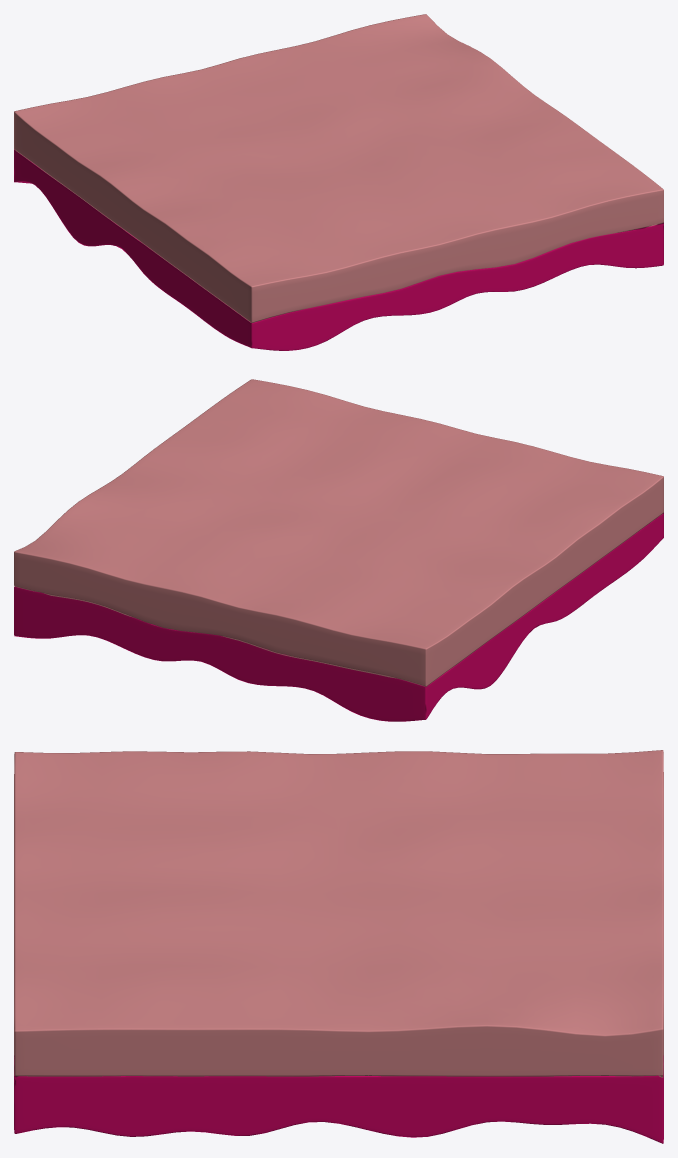
File: 0102_EpidermisPapillary_visual.obj
3 renders of one model, top to bottom at view 1: azimuth 30°, elevation 25°; view 2: azimuth 150°, elevation 25°; view 3: azimuth 270°, elevation 25°, orthographic. The views are drawn at different scales.
Visible parts, largest first — view 1: 0102_EpidermisPapillary_visual; view 2: 0102_EpidermisPapillary_visual; view 3: 0102_EpidermisPapillary_visual.
Part boxes in pixels (left/top/right/bottom): 0102_EpidermisPapillary_visual: left=14, top=14, right=663, bottom=350; 0102_EpidermisPapillary_visual: left=14, top=379, right=663, bottom=721; 0102_EpidermisPapillary_visual: left=14, top=750, right=663, bottom=1143.
Bounding box in the file's own units: 1.12 × 0.2274 × 1.12.
